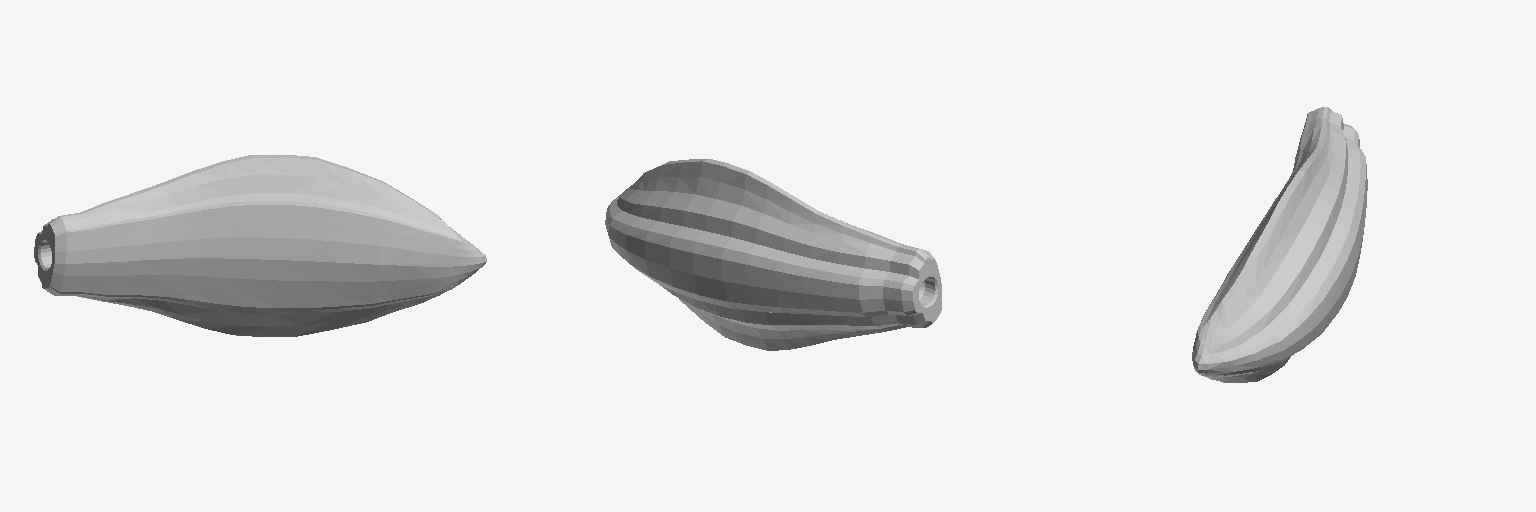
The model's file is DelanteraDerecha.obj.
3 renders of one model, left to right at view 1: azimuth 30°, elevation 25°; view 2: azimuth 150°, elevation 25°; view 3: azimuth 270°, elevation 25°, orthographic.
Parts seen in each view (by area): view 1: polySurface1 Mesh; view 2: polySurface1 Mesh; view 3: polySurface1 Mesh.
Part boxes in pixels (bbox=[...]): polySurface1 Mesh: bbox=[34, 155, 486, 336]; polySurface1 Mesh: bbox=[605, 159, 941, 350]; polySurface1 Mesh: bbox=[1192, 107, 1367, 382].
Bounding box in the file's own units: 1.37 × 0.6147 × 0.5461.